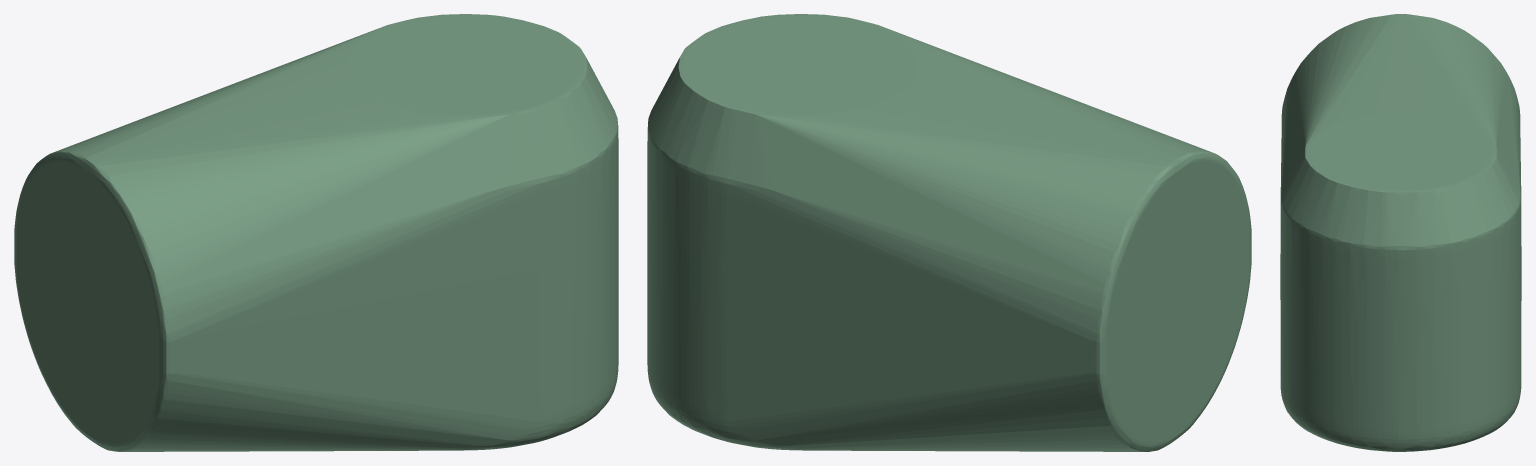
File: arm_l5.obj
3 renders of one model, left to right at view 1: azimuth 30°, elevation 25°; view 2: azimuth 150°, elevation 25°; view 3: azimuth 270°, elevation 25°, orthographic. The views are drawn at different scales.
Visible parts, largest first — view 1: geometry_0; view 2: geometry_0; view 3: geometry_0.
Boxes of the visible parts, x1=… form: geometry_0: x1=14, y1=14, x2=618, y2=451; geometry_0: x1=647, y1=14, x2=1251, y2=451; geometry_0: x1=1280, y1=14, x2=1521, y2=451.
Bounding box in the file's own units: 0.1199 × 0.0737 × 0.0629.
